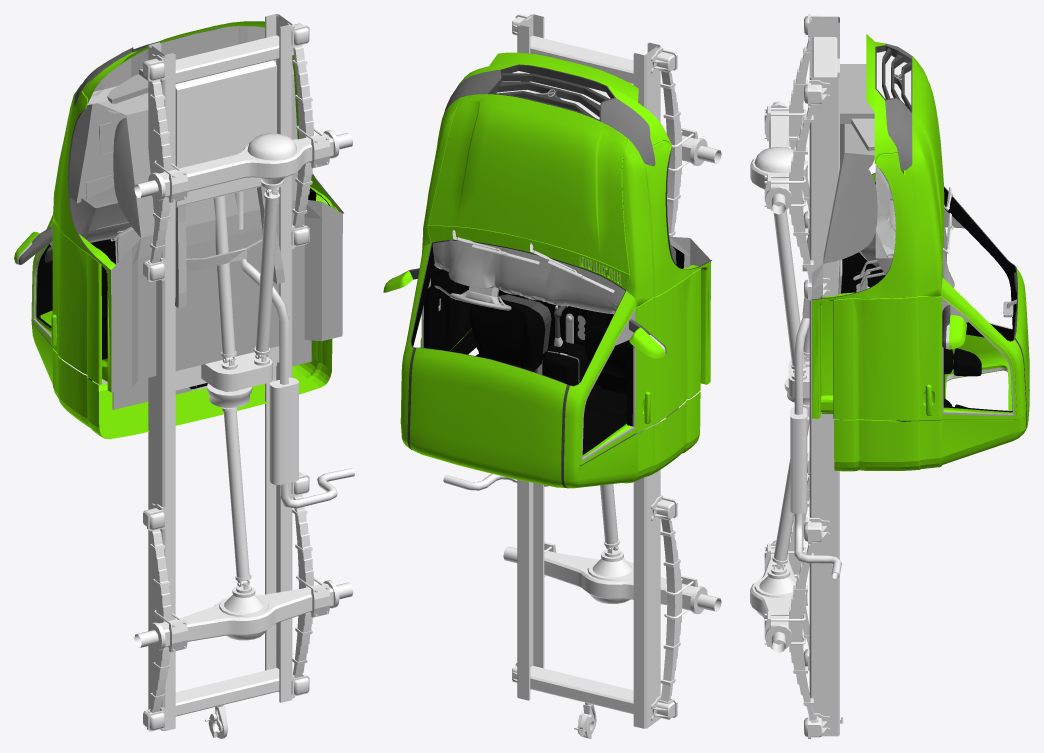
File: UazAvionMesh.dae
The picture shows the model from 3 angles, left to right: view 1: azimuth 30°, elevation 25°; view 2: azimuth 150°, elevation 25°; view 3: azimuth 270°, elevation 25°; orthographic projection. The views are drawn at different scales.
Visible parts, largest first — view 1: rama, body, transmission_f, door_rf_ok, salon, bump_front_ok; view 2: body, rama, bonnet_ok, salon, door_rf_ok, door_lf_ok, bump_front_ok, fars_glass, transmission_f; view 3: body, rama, door_lf_ok, salon, transmission_f, bonnet_ok, bump_front_ok, fars_glass.
Boxes of the visible parts, box(x1,y1,x2,y2) form: rama: box(134, 14, 354, 738); body: box(31, 26, 343, 439); transmission_f: box(134, 130, 353, 358); door_rf_ok: box(14, 221, 107, 384); salon: box(36, 187, 316, 409); bump_front_ok: box(82, 21, 264, 108); body: box(400, 64, 711, 488); rama: box(443, 14, 721, 738); bonnet_ok: box(428, 94, 629, 274); salon: box(411, 226, 684, 454); door_rf_ok: box(579, 269, 700, 465); door_lf_ok: box(383, 265, 471, 351); bump_front_ok: box(457, 52, 672, 146); fars_glass: box(444, 70, 655, 166); transmission_f: box(665, 127, 721, 166); body: box(802, 45, 1029, 471); rama: box(750, 14, 843, 738); door_lf_ok: box(833, 296, 1016, 420); salon: box(838, 165, 1016, 421); transmission_f: box(750, 101, 807, 369); bonnet_ok: box(912, 56, 944, 261); bump_front_ok: box(866, 34, 897, 163); fars_glass: box(885, 43, 912, 171).
Bounding box in the file's own units: 2.36 × 2.1 × 5.67.
